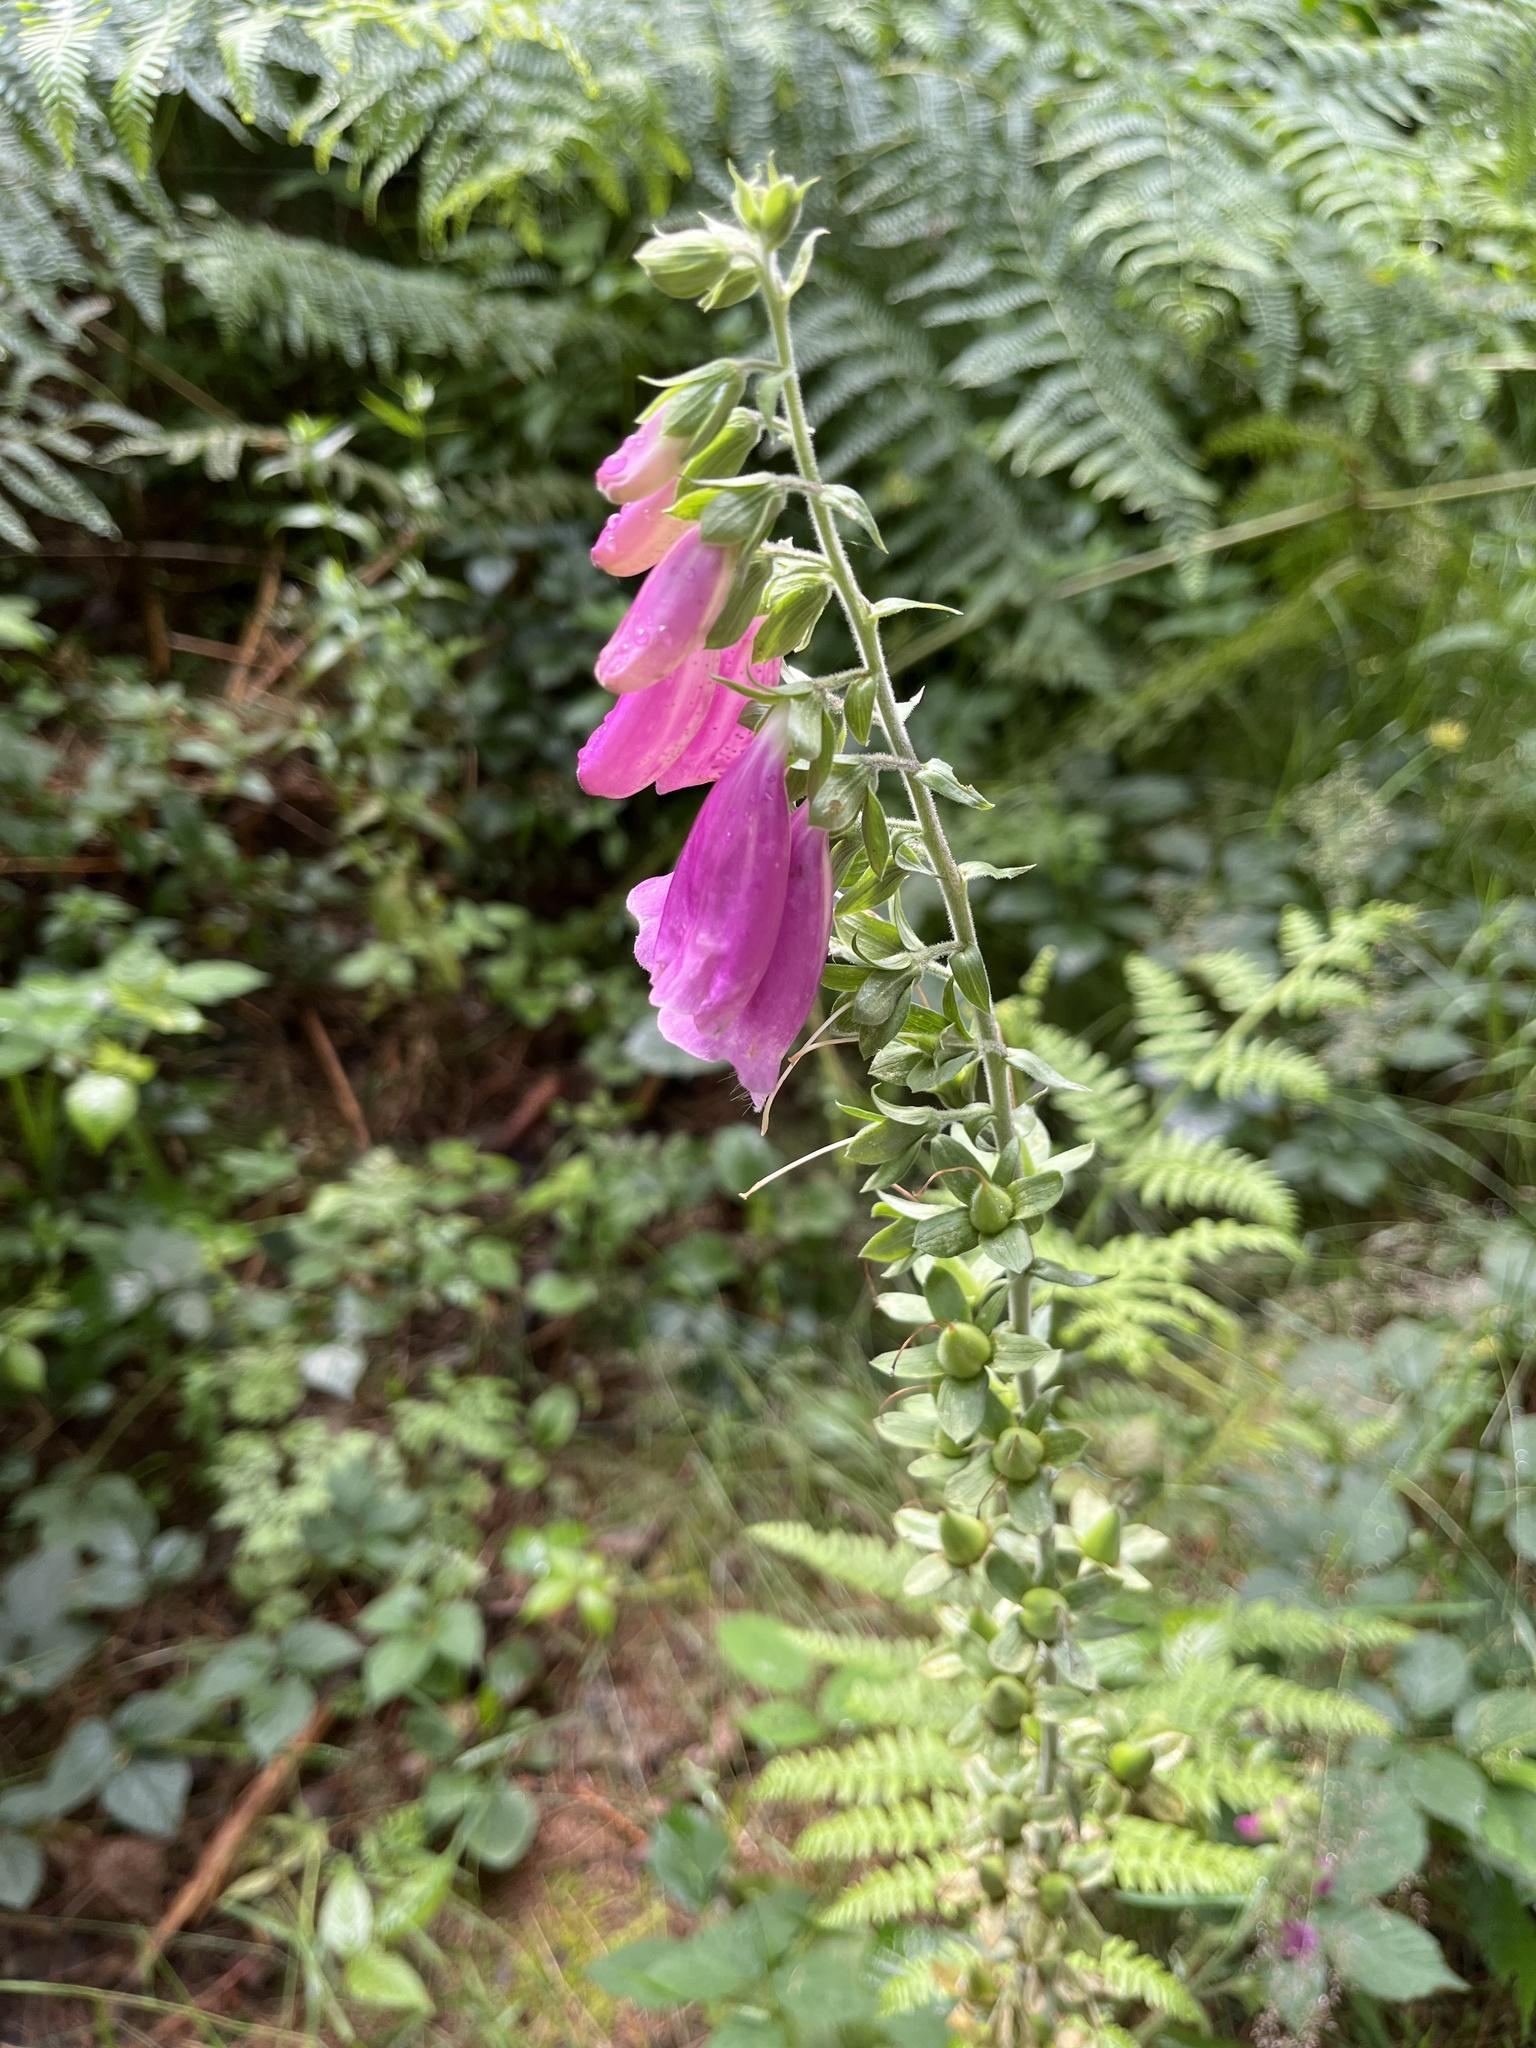Digitalis L: (541, 164, 1126, 1980)
